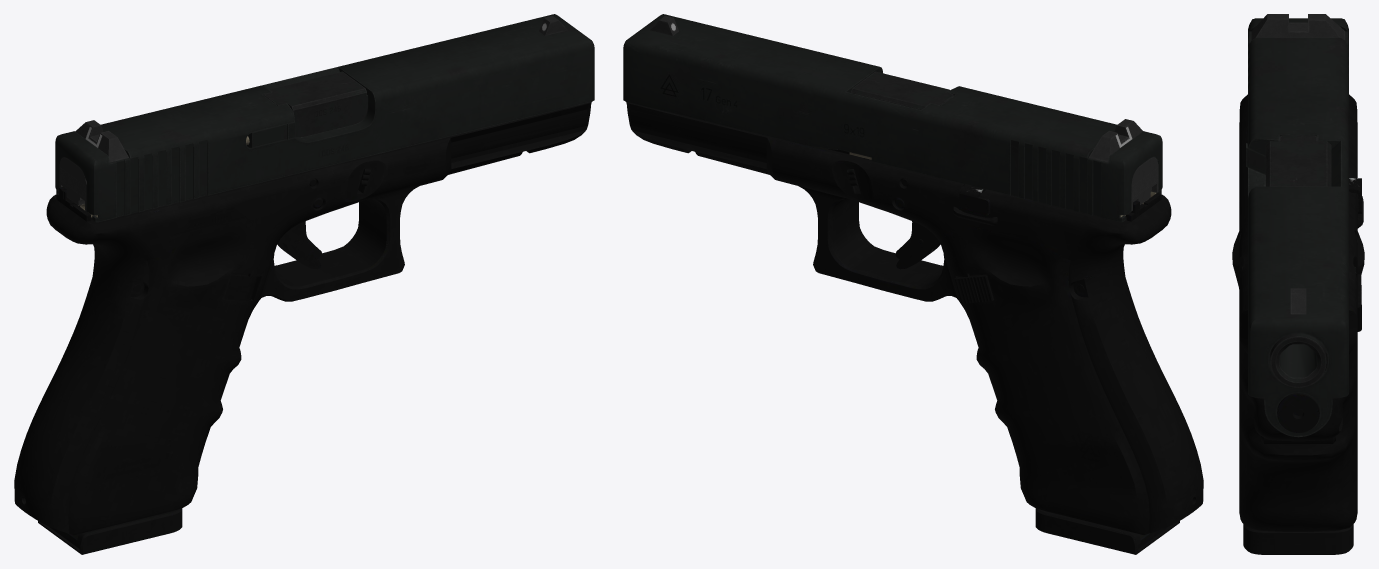
The model's file is g17_artist_parts.glb.
The picture shows the model from 3 angles, left to right: view 1: azimuth 30°, elevation 25°; view 2: azimuth 150°, elevation 25°; view 3: azimuth 270°, elevation 25°; orthographic projection. The views are drawn at different scales.
Parts seen in each view (by area): view 1: frame, slide, barrel, trigger; view 2: frame, slide, barrel, trigger; view 3: slide, frame, barrel.
Boxes of the visible parts, bbox=[...] form: frame: bbox=[14, 102, 591, 554]; slide: bbox=[55, 14, 594, 222]; barrel: bbox=[264, 71, 367, 137]; trigger: bbox=[277, 221, 322, 269]; frame: bbox=[626, 102, 1203, 554]; slide: bbox=[623, 14, 1162, 222]; barrel: bbox=[851, 71, 953, 109]; trigger: bbox=[895, 221, 940, 269]; slide: bbox=[1246, 14, 1348, 437]; frame: bbox=[1232, 94, 1364, 554]; barrel: bbox=[1265, 135, 1331, 387].
Size of the model in its own units: 203 by 140 by 33.42.
Materials: 8 (8 with a texture image).
